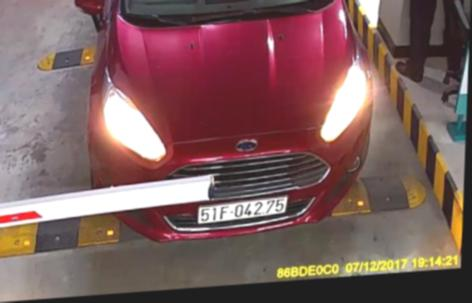License_Plate: (193, 191, 288, 222)
